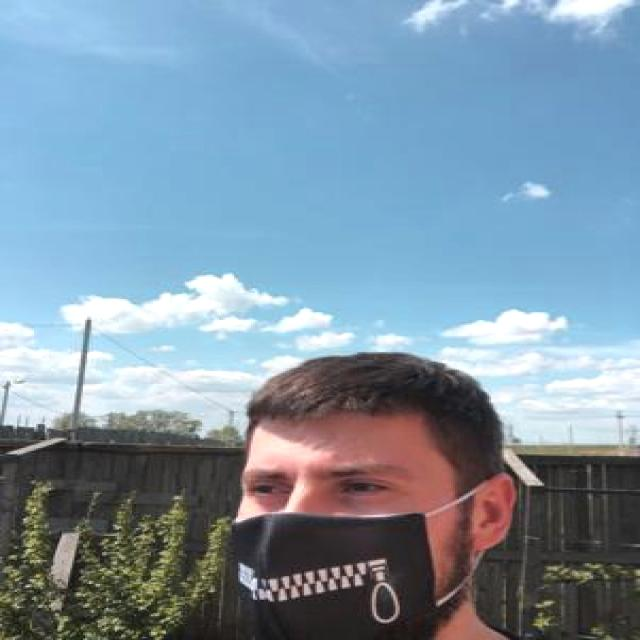face_mask: (225, 442, 458, 638)
head_nohelmet: (238, 344, 466, 432)
